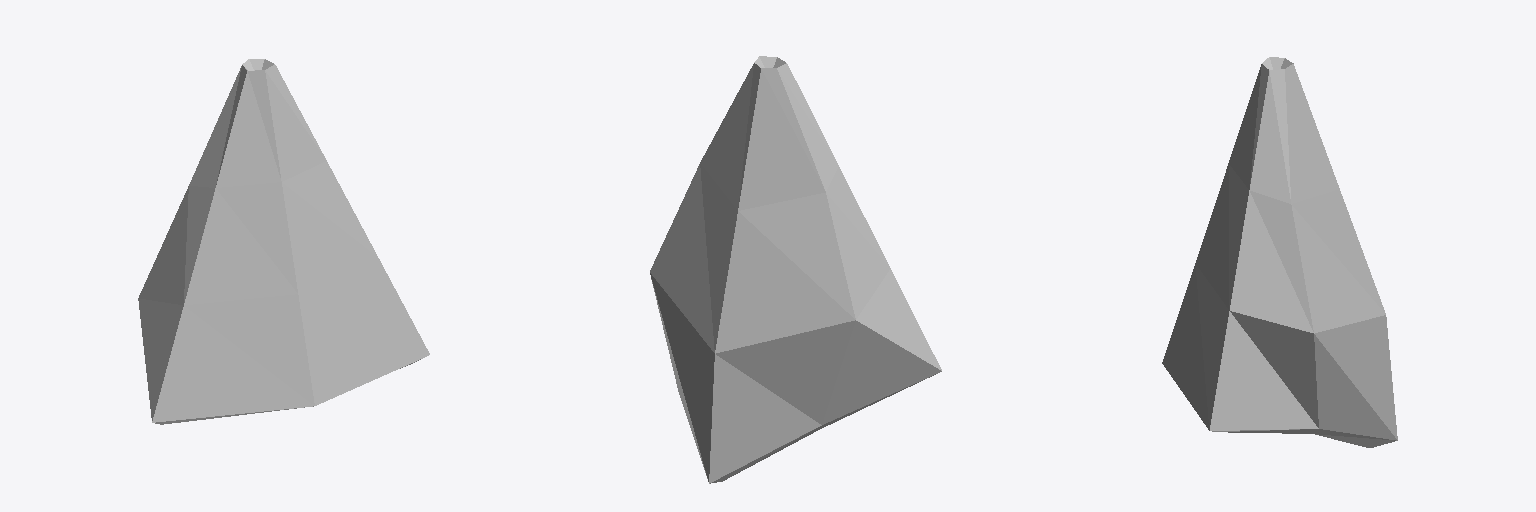
File: Fortune Cookie.obj
The picture shows the model from 3 angles: view 1: azimuth 30°, elevation 25°; view 2: azimuth 150°, elevation 25°; view 3: azimuth 270°, elevation 25°; orthographic projection.
Parts seen in each view (by area): view 1: Cylinder; view 2: Cylinder; view 3: Cylinder.
Boxes of the visible parts, <box> form: Cylinder: <box>138,59,429,424</box>; Cylinder: <box>650,56,941,483</box>; Cylinder: <box>1162,57,1397,447</box>.
Size of the model in its own units: 1.85 by 2.44 by 1.36.